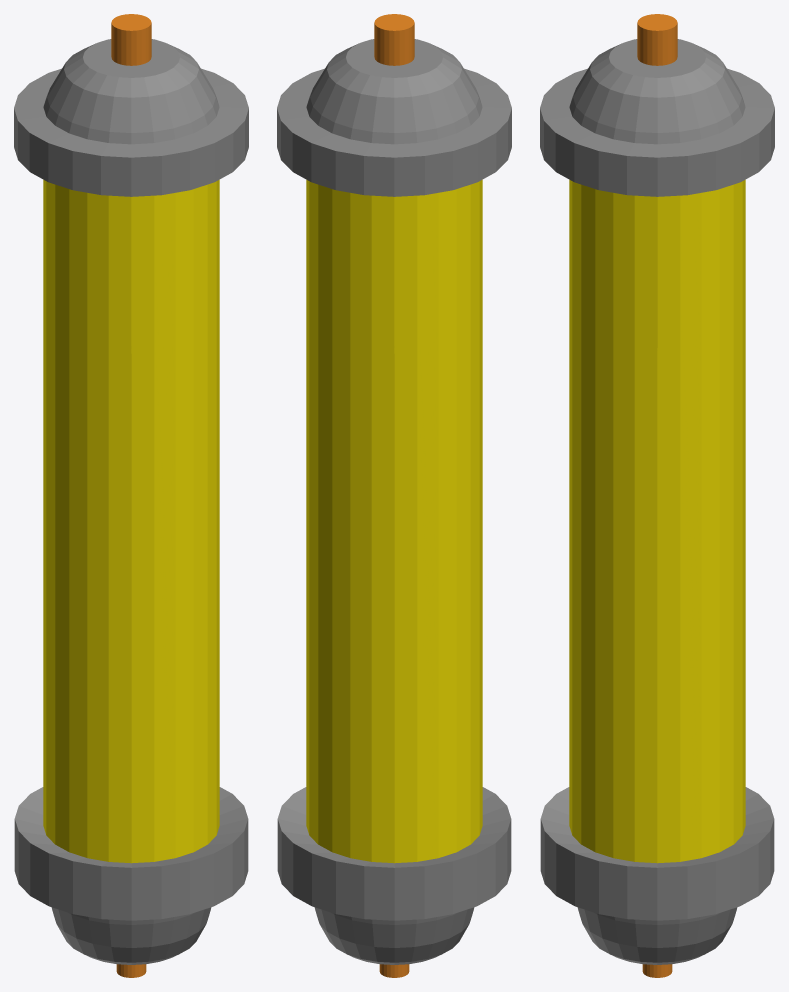
File: Fuse.fbx
3 renders of one model, left to right at view 1: azimuth 30°, elevation 25°; view 2: azimuth 150°, elevation 25°; view 3: azimuth 270°, elevation 25°, orthographic.
Visible parts, largest first — view 1: Cylinder; view 2: Cylinder; view 3: Cylinder.
Boxes of the visible parts, left/top/right/bottom form: Cylinder: left=14, top=14, right=248, bottom=977; Cylinder: left=277, top=14, right=511, bottom=977; Cylinder: left=540, top=14, right=774, bottom=977.
Bounding box in the file's own units: 6.1 × 27.18 × 6.1.
